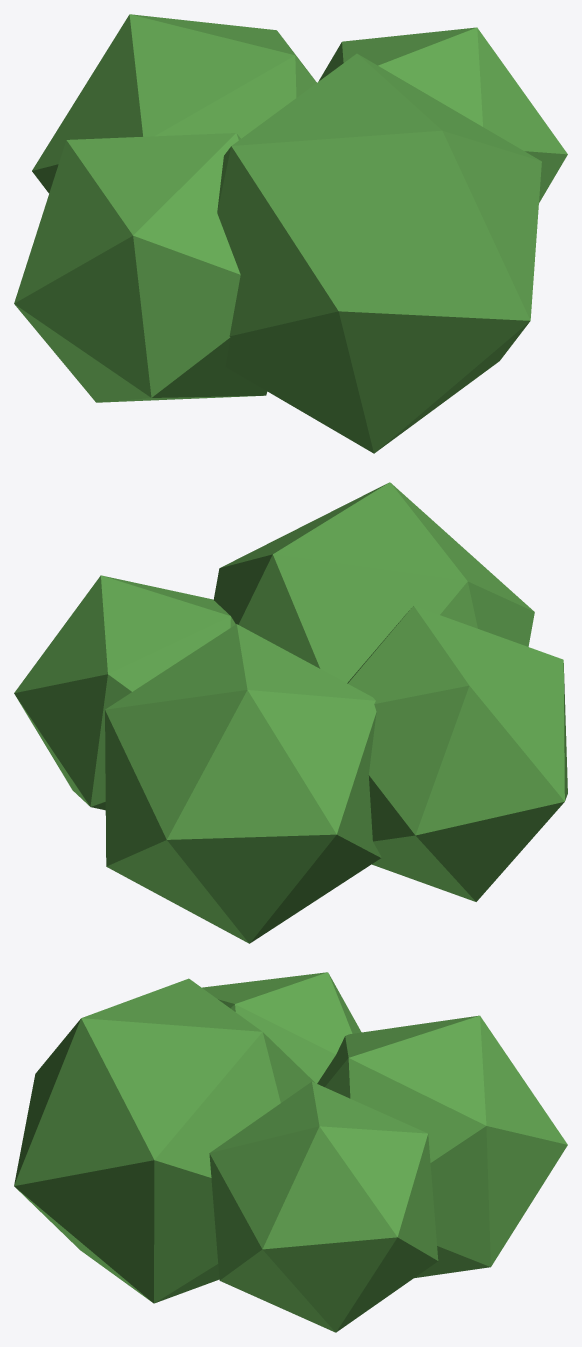
File: Bush2.fbx
3 views of the same model, one above another, from view 1: azimuth 30°, elevation 25°; view 2: azimuth 150°, elevation 25°; view 3: azimuth 270°, elevation 25° (orthographic). The views are drawn at different scales.
Visible parts, largest first — view 1: Icosphere.008; view 2: Icosphere.008; view 3: Icosphere.008.
Boxes of the visible parts, x1=… form: Icosphere.008: x1=14, y1=14, x2=567, y2=453; Icosphere.008: x1=14, y1=482, x2=567, y2=943; Icosphere.008: x1=14, y1=972, x2=567, y2=1332.
Size of the model in its own units: 369 by 204 by 383.
